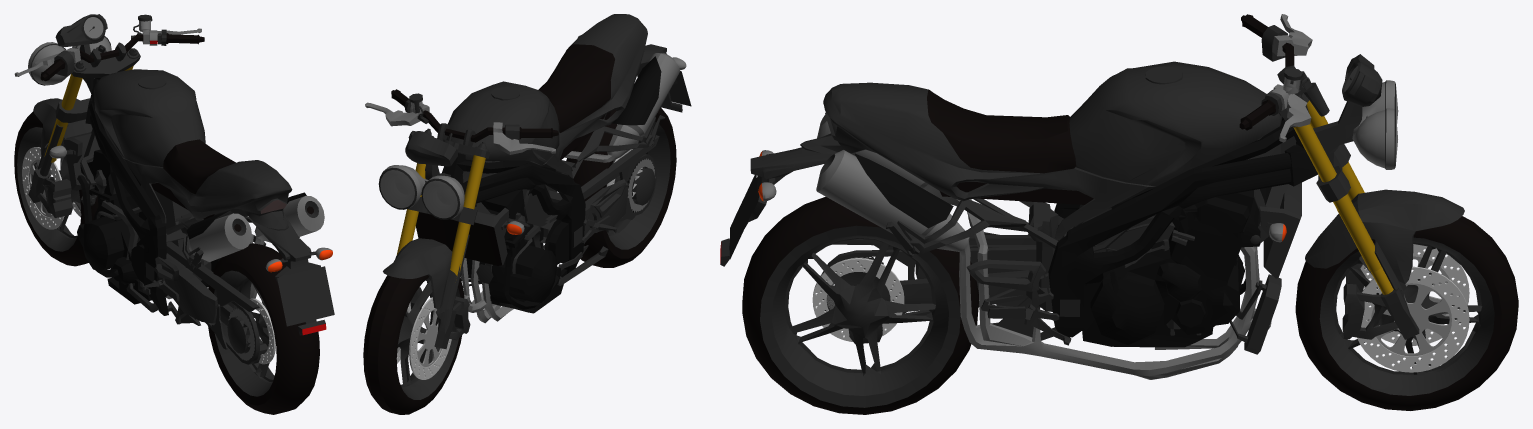
Rendered from Motorcycle.dae.
The picture shows the model from 3 angles, left to right: view 1: azimuth 30°, elevation 25°; view 2: azimuth 150°, elevation 25°; view 3: azimuth 270°, elevation 25°; orthographic projection. The views are drawn at different scales.
Parts seen in each view (by area): view 1: Bikes_-_Triumph_Speed_Triple (×40), group_6, group_7, group_8; view 2: Bikes_-_Triumph_Speed_Triple (×41), group_6 (×2), group_8; view 3: Bikes_-_Triumph_Speed_Triple (×35), group_5 (×2), group_7, group_6.
Boxes of the visible parts, x1,y1,x2,y2 form: Bikes_-_Triumph_Speed_Triple (×40): (14,14,334,414); group_6: (22,147,63,229); group_7: (250,298,275,364); group_8: (228,308,254,360); Bikes_-_Triumph_Speed_Triple (×41): (363,14,691,414); group_6 (×2): (409,297,451,379); group_8: (627,158,655,212); Bikes_-_Triumph_Speed_Triple (×35): (720,14,1518,414); group_5 (×2): (1357,266,1469,372); group_7: (812,258,904,341); group_6: (1360,244,1469,345).
Size of the model in its own units: 40.64 by 110 by 55.52.
